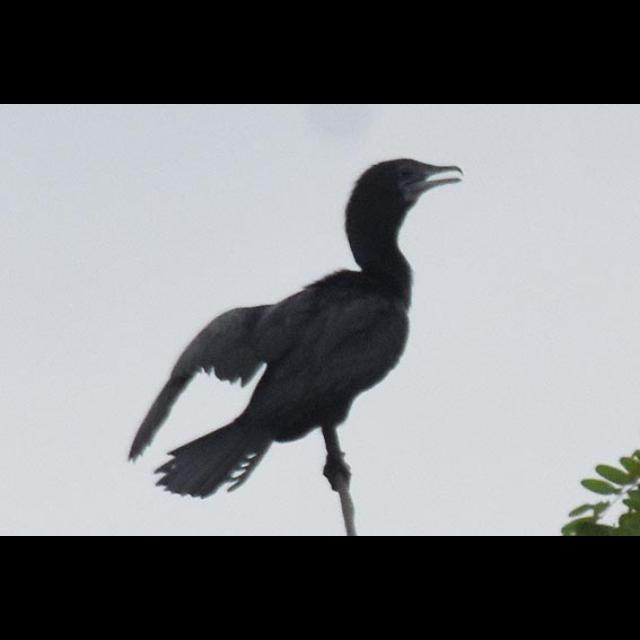cormorant: (132, 156, 468, 500)
